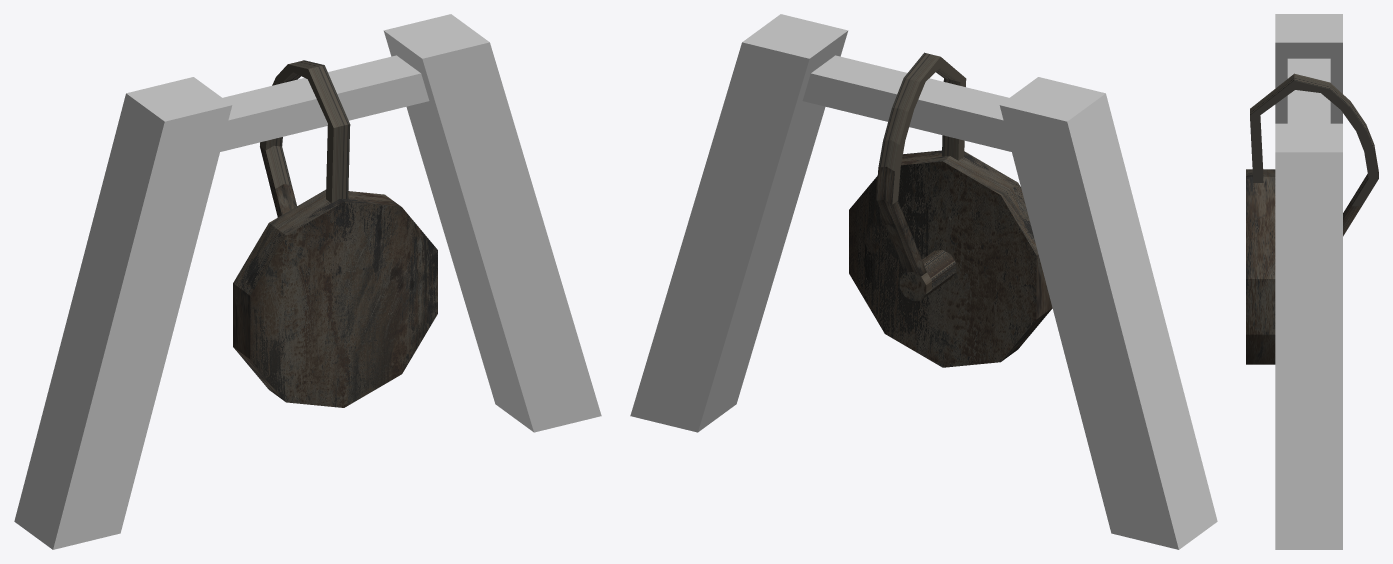
Rendered from Skydeskive.fbx.
The picture shows the model from 3 angles, left to right: view 1: azimuth 30°, elevation 25°; view 2: azimuth 150°, elevation 25°; view 3: azimuth 270°, elevation 25°; orthographic projection. The views are drawn at different scales.
Parts seen in each view (by area): view 1: træ, skive; view 2: træ, skive; view 3: træ, skive.
Part boxes in pixels (left/top/right/bottom): træ: left=14, top=14, right=601, bottom=549; skive: left=233, top=60, right=437, bottom=407; træ: left=630, top=14, right=1217, bottom=549; skive: left=849, top=52, right=1052, bottom=367; træ: left=1275, top=14, right=1342, bottom=549; skive: left=1246, top=73, right=1378, bottom=364.
Bounding box in the file's own units: 827 × 588 × 199.
